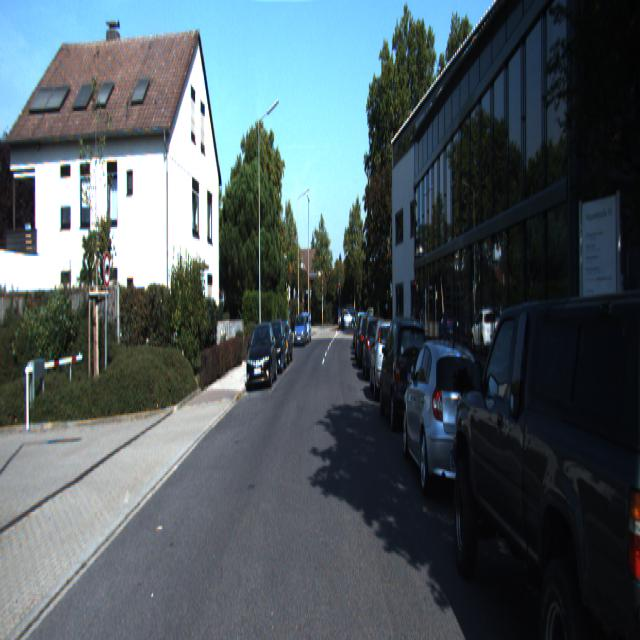Car: (448, 263, 639, 638), (401, 330, 490, 508), (379, 311, 431, 434), (369, 316, 404, 404), (246, 320, 278, 392), (362, 314, 389, 384), (294, 313, 308, 347)
